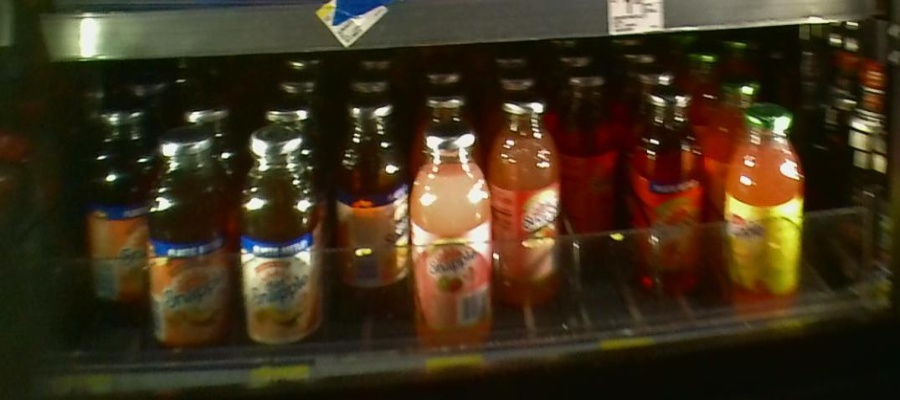bottle: (235, 121, 321, 363), (148, 128, 235, 367), (409, 125, 494, 359), (330, 93, 407, 322), (727, 102, 805, 322), (636, 79, 707, 299), (494, 93, 562, 306), (84, 96, 147, 305), (564, 62, 621, 252)
